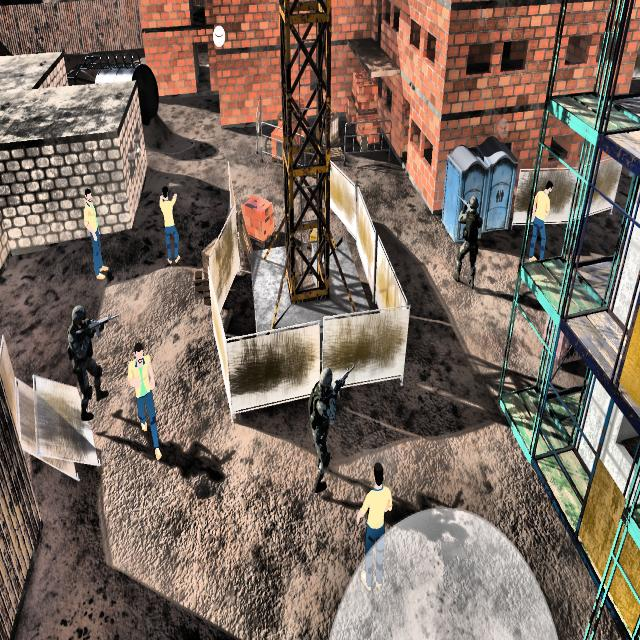bad: (303, 358, 347, 506), (62, 288, 110, 421), (451, 183, 486, 295)
good: (117, 335, 166, 470), (357, 457, 394, 595), (79, 180, 109, 296), (151, 182, 186, 272), (534, 166, 553, 270)
